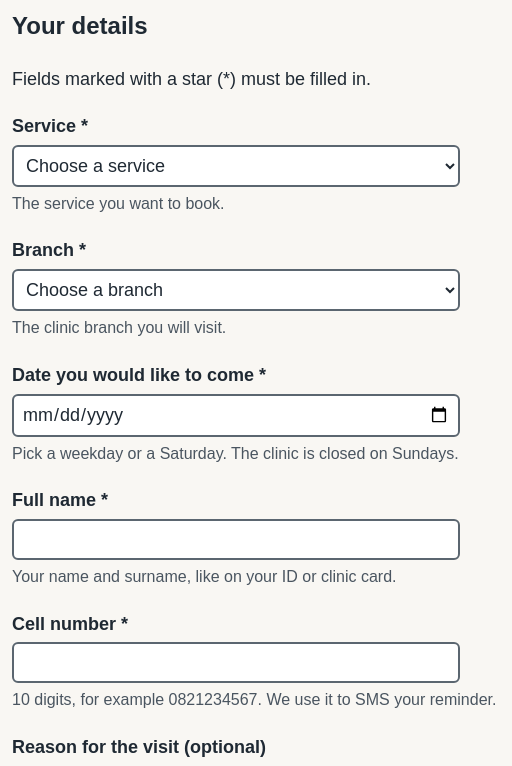
Test: BookingForm › a field is checked when you leave it
The image size is (512, 766).
Click the field labelled "Full name *" at (236,540), box [12,519,460,560]
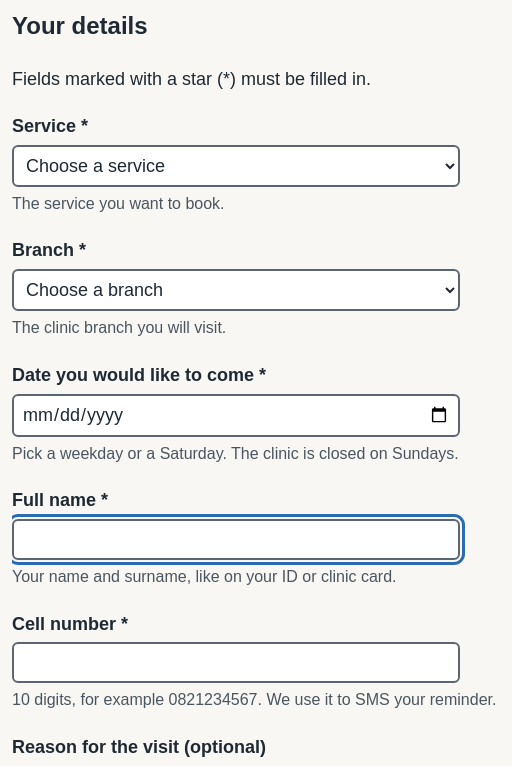
Press Tab
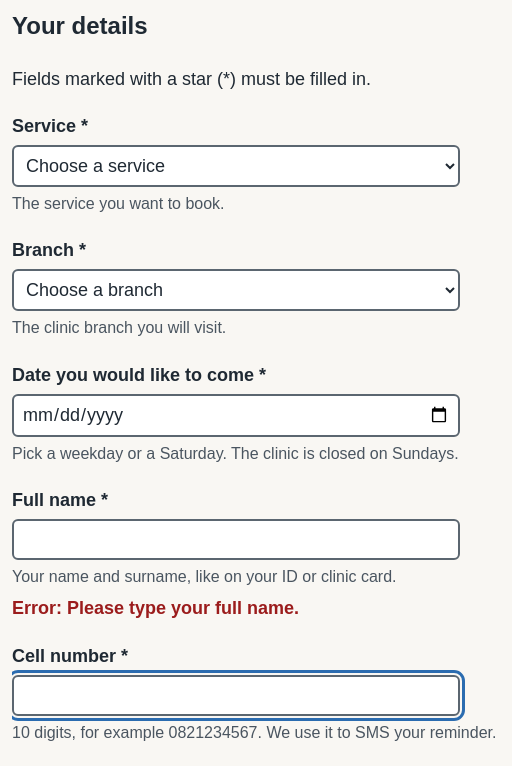
Result: the text "Error: Please type your full name." is shown at [12,598,299,618]
